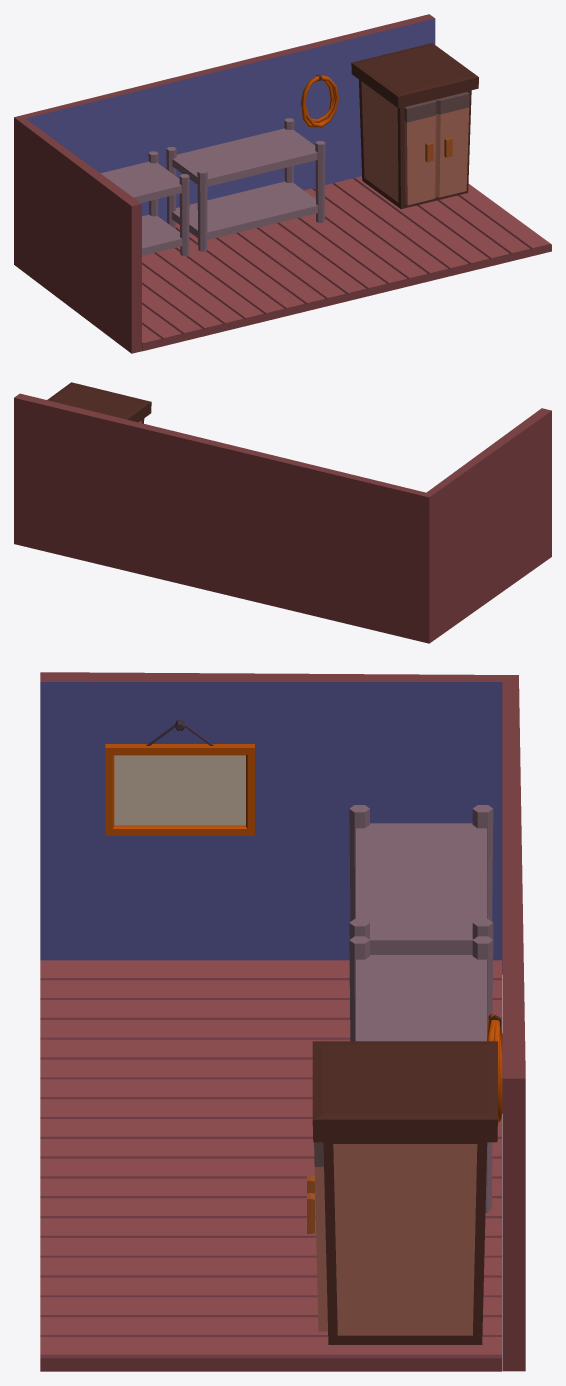
Rendered from seamanroom.fbx.
The picture shows the model from 3 angles, top to bottom: view 1: azimuth 30°, elevation 25°; view 2: azimuth 150°, elevation 25°; view 3: azimuth 270°, elevation 25°; orthographic projection. The views are drawn at different scales.
Parts seen in each view (by area): view 1: seamanroom; view 2: seamanroom; view 3: seamanroom.
Part boxes in pixels (<box>): seamanroom: <box>14,14,551,353</box>; seamanroom: <box>14,382,551,643</box>; seamanroom: <box>40,672,525,1371</box>.
Bounding box in the file's own units: 821 × 276 × 414.
1 material, 1 textured.
